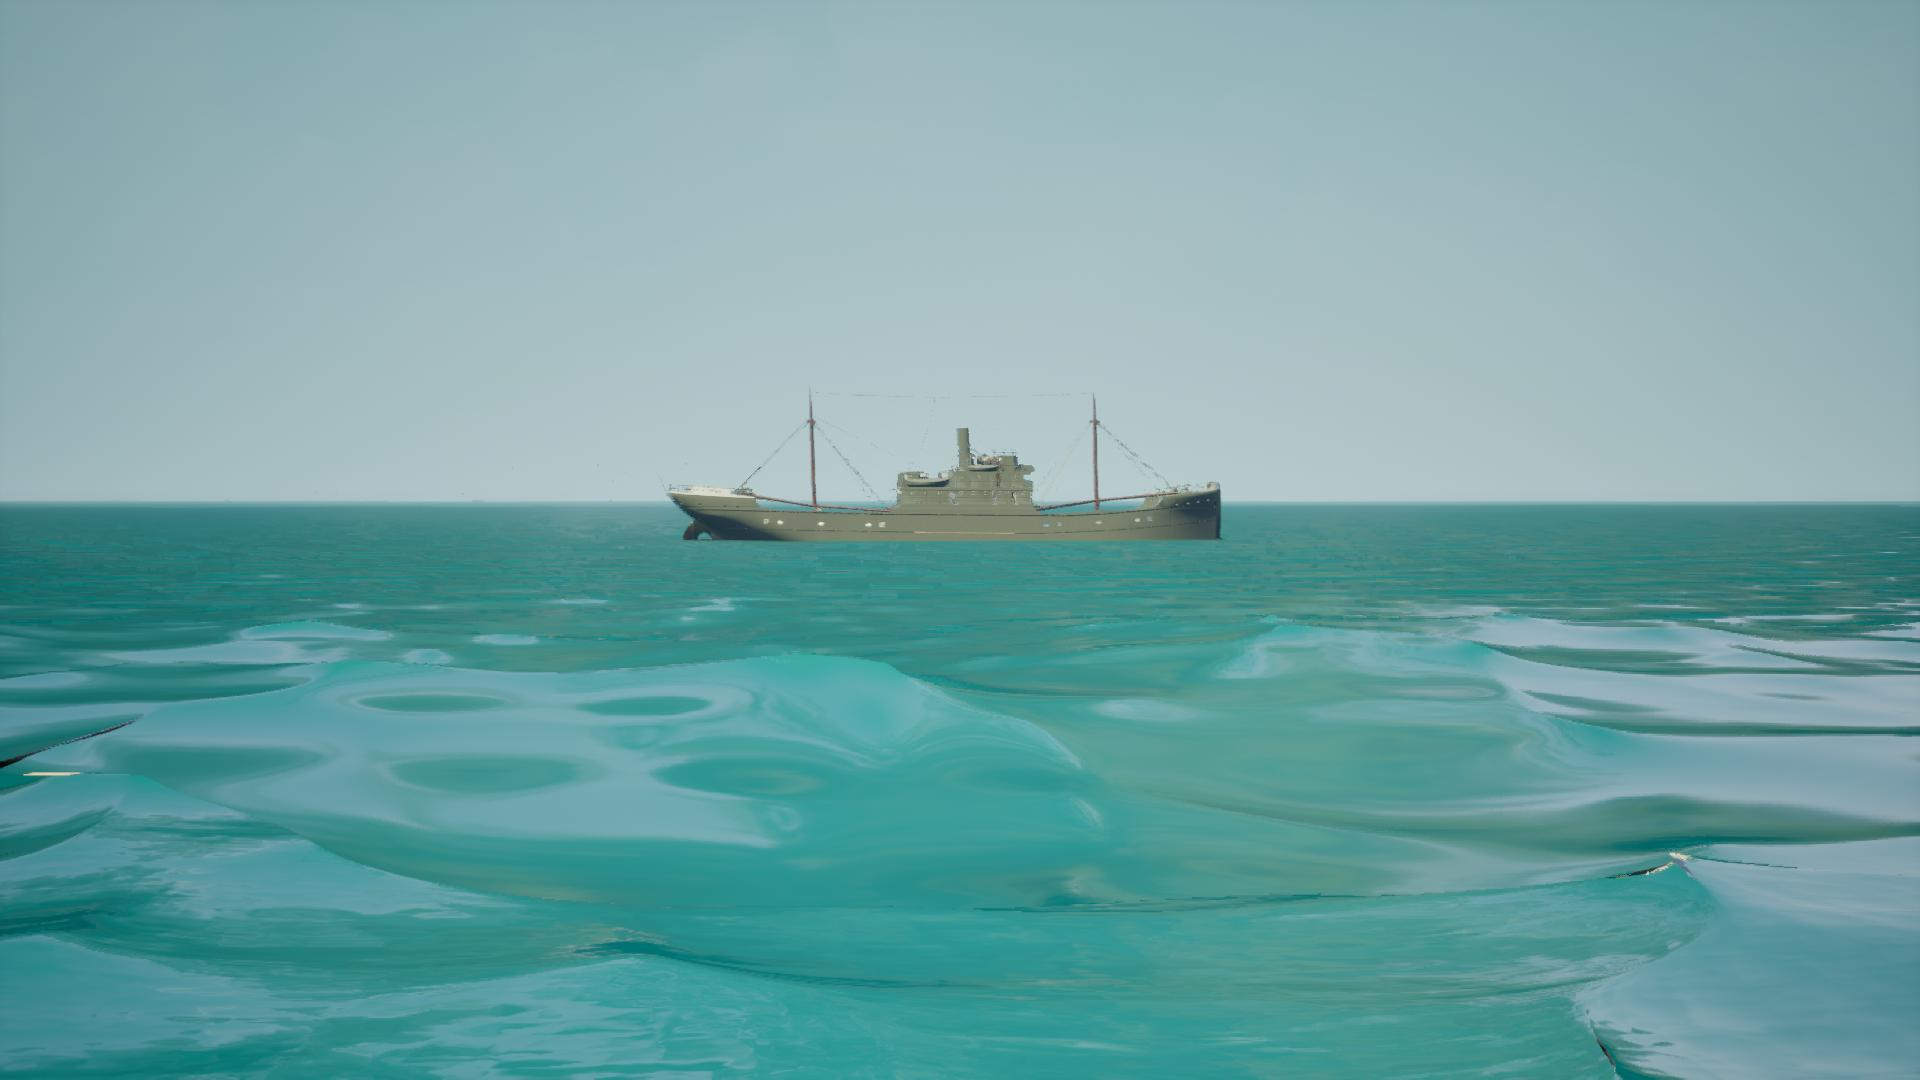Fishing Boat: (673, 390, 1221, 545)
